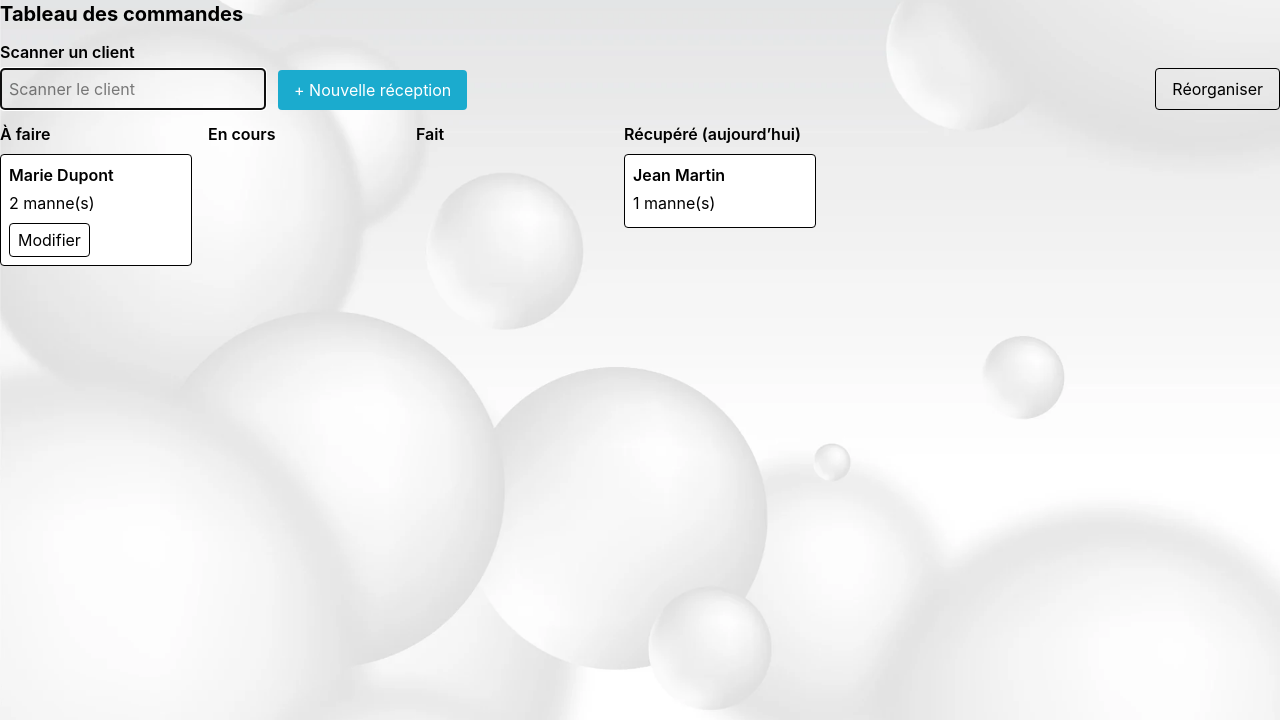
Test: Tableau › Annuler pendant la clôture revient au Kanban sans rien écrire (US #260)
Type "ABC123" into the field with placeholder "Scanner le client" at (133,89), box [0,68,266,110]
Then press Enter
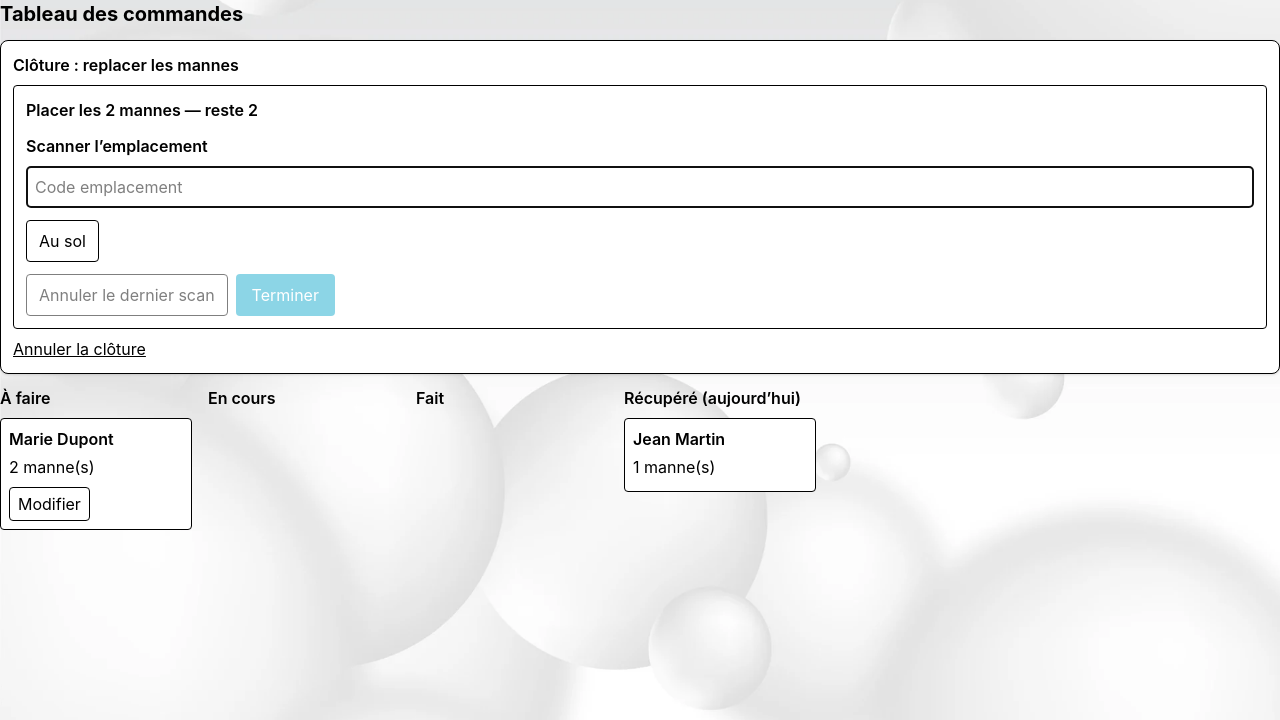
Now the text "Placer les 2 mannes — reste 2" is shown, box [26,100,258,120]
Click the button "Annuler la clôture" at (79,349), box [13,337,146,361]
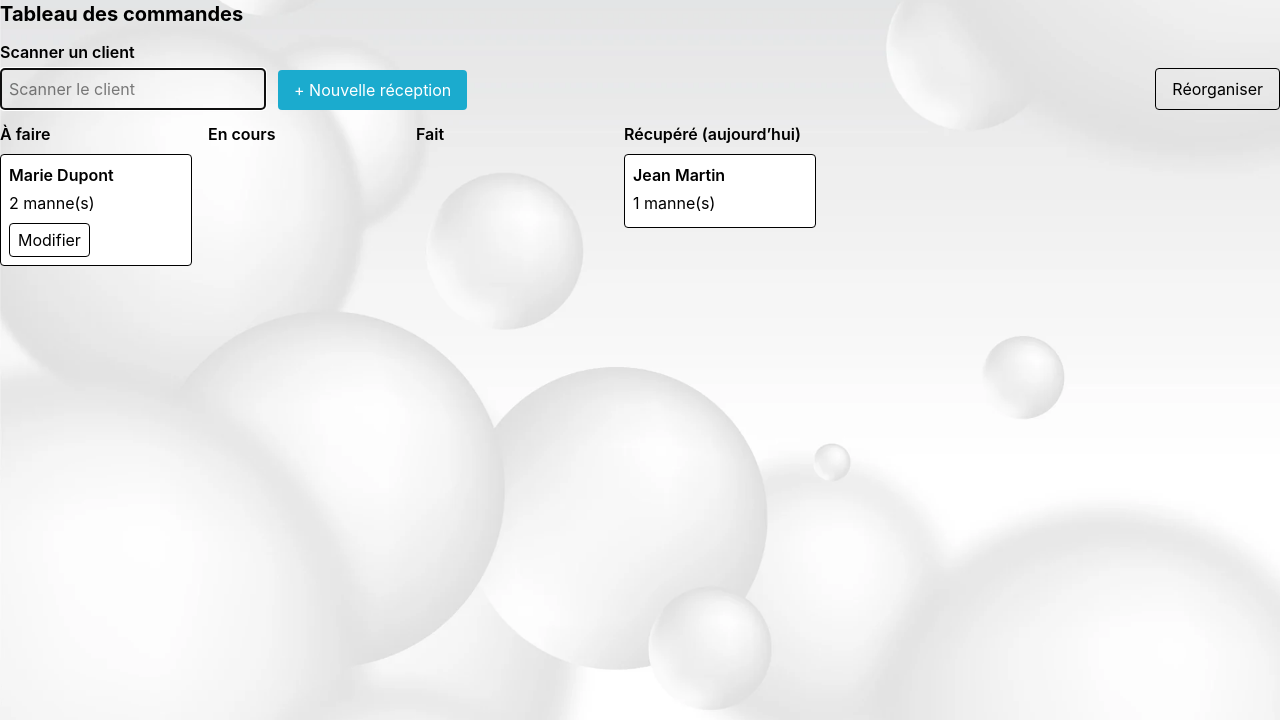
Now the text "reste" is gone
